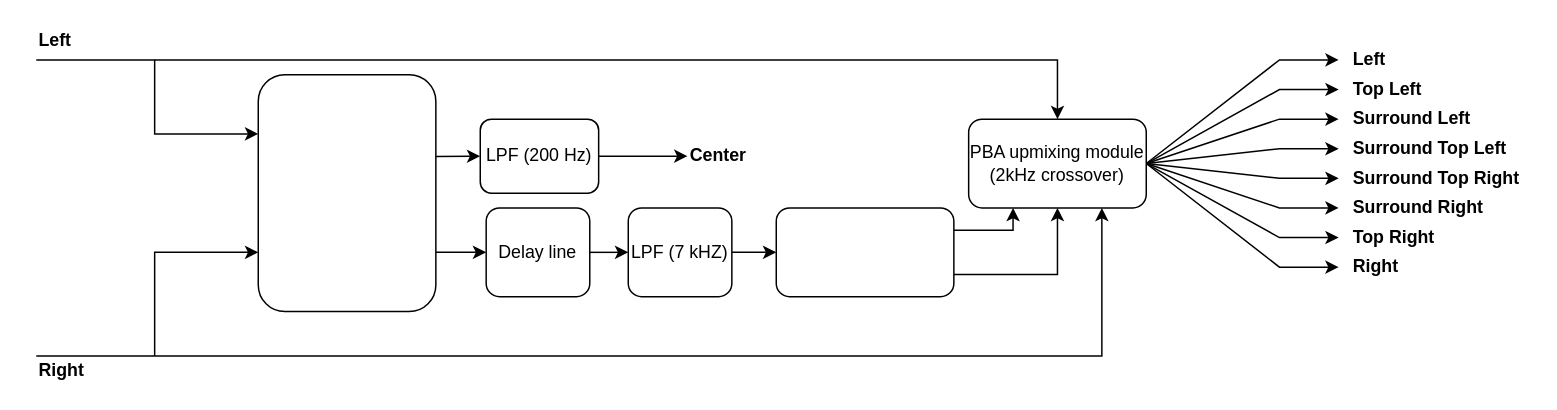
This 1557x410 diagram has some shape labels left out. The centre of each missing label's shape, as x and y in pixels:
+- 90deg Phase Shift: point 864,251
LMS-based upmixing module: point 346,192
